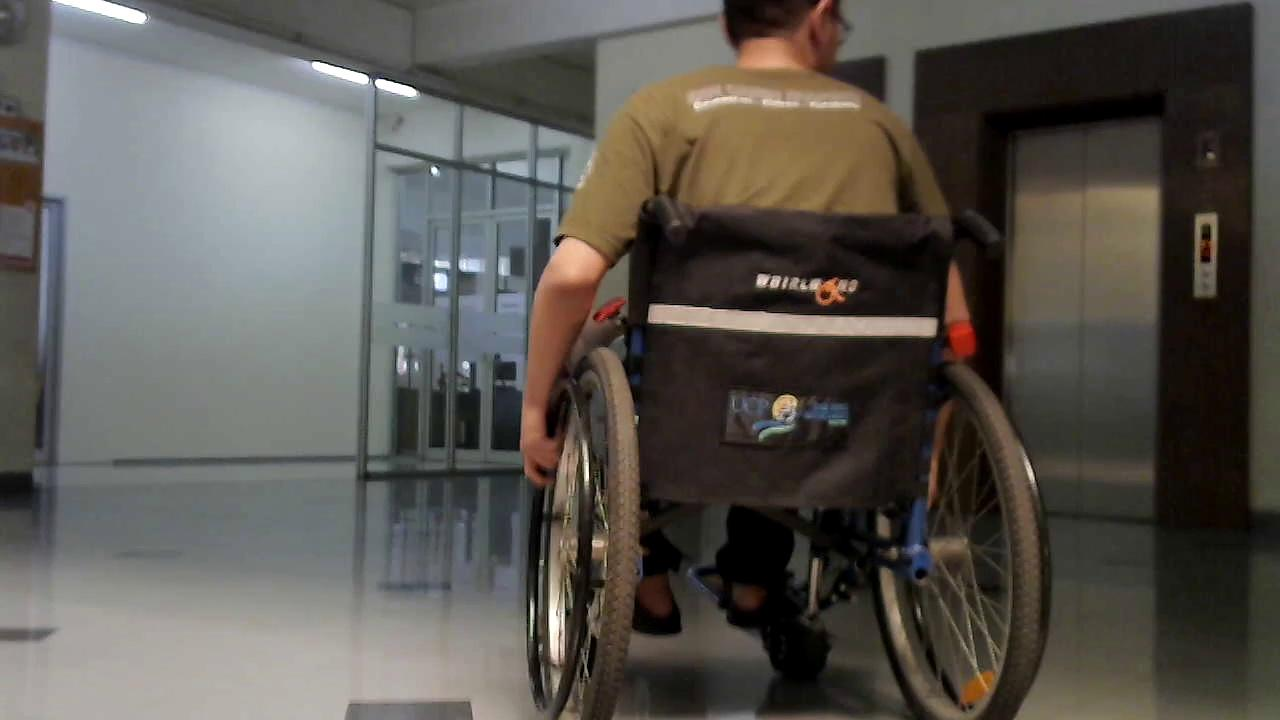person: (518, 3, 1006, 697)
wheelchair: (492, 184, 1063, 720)
